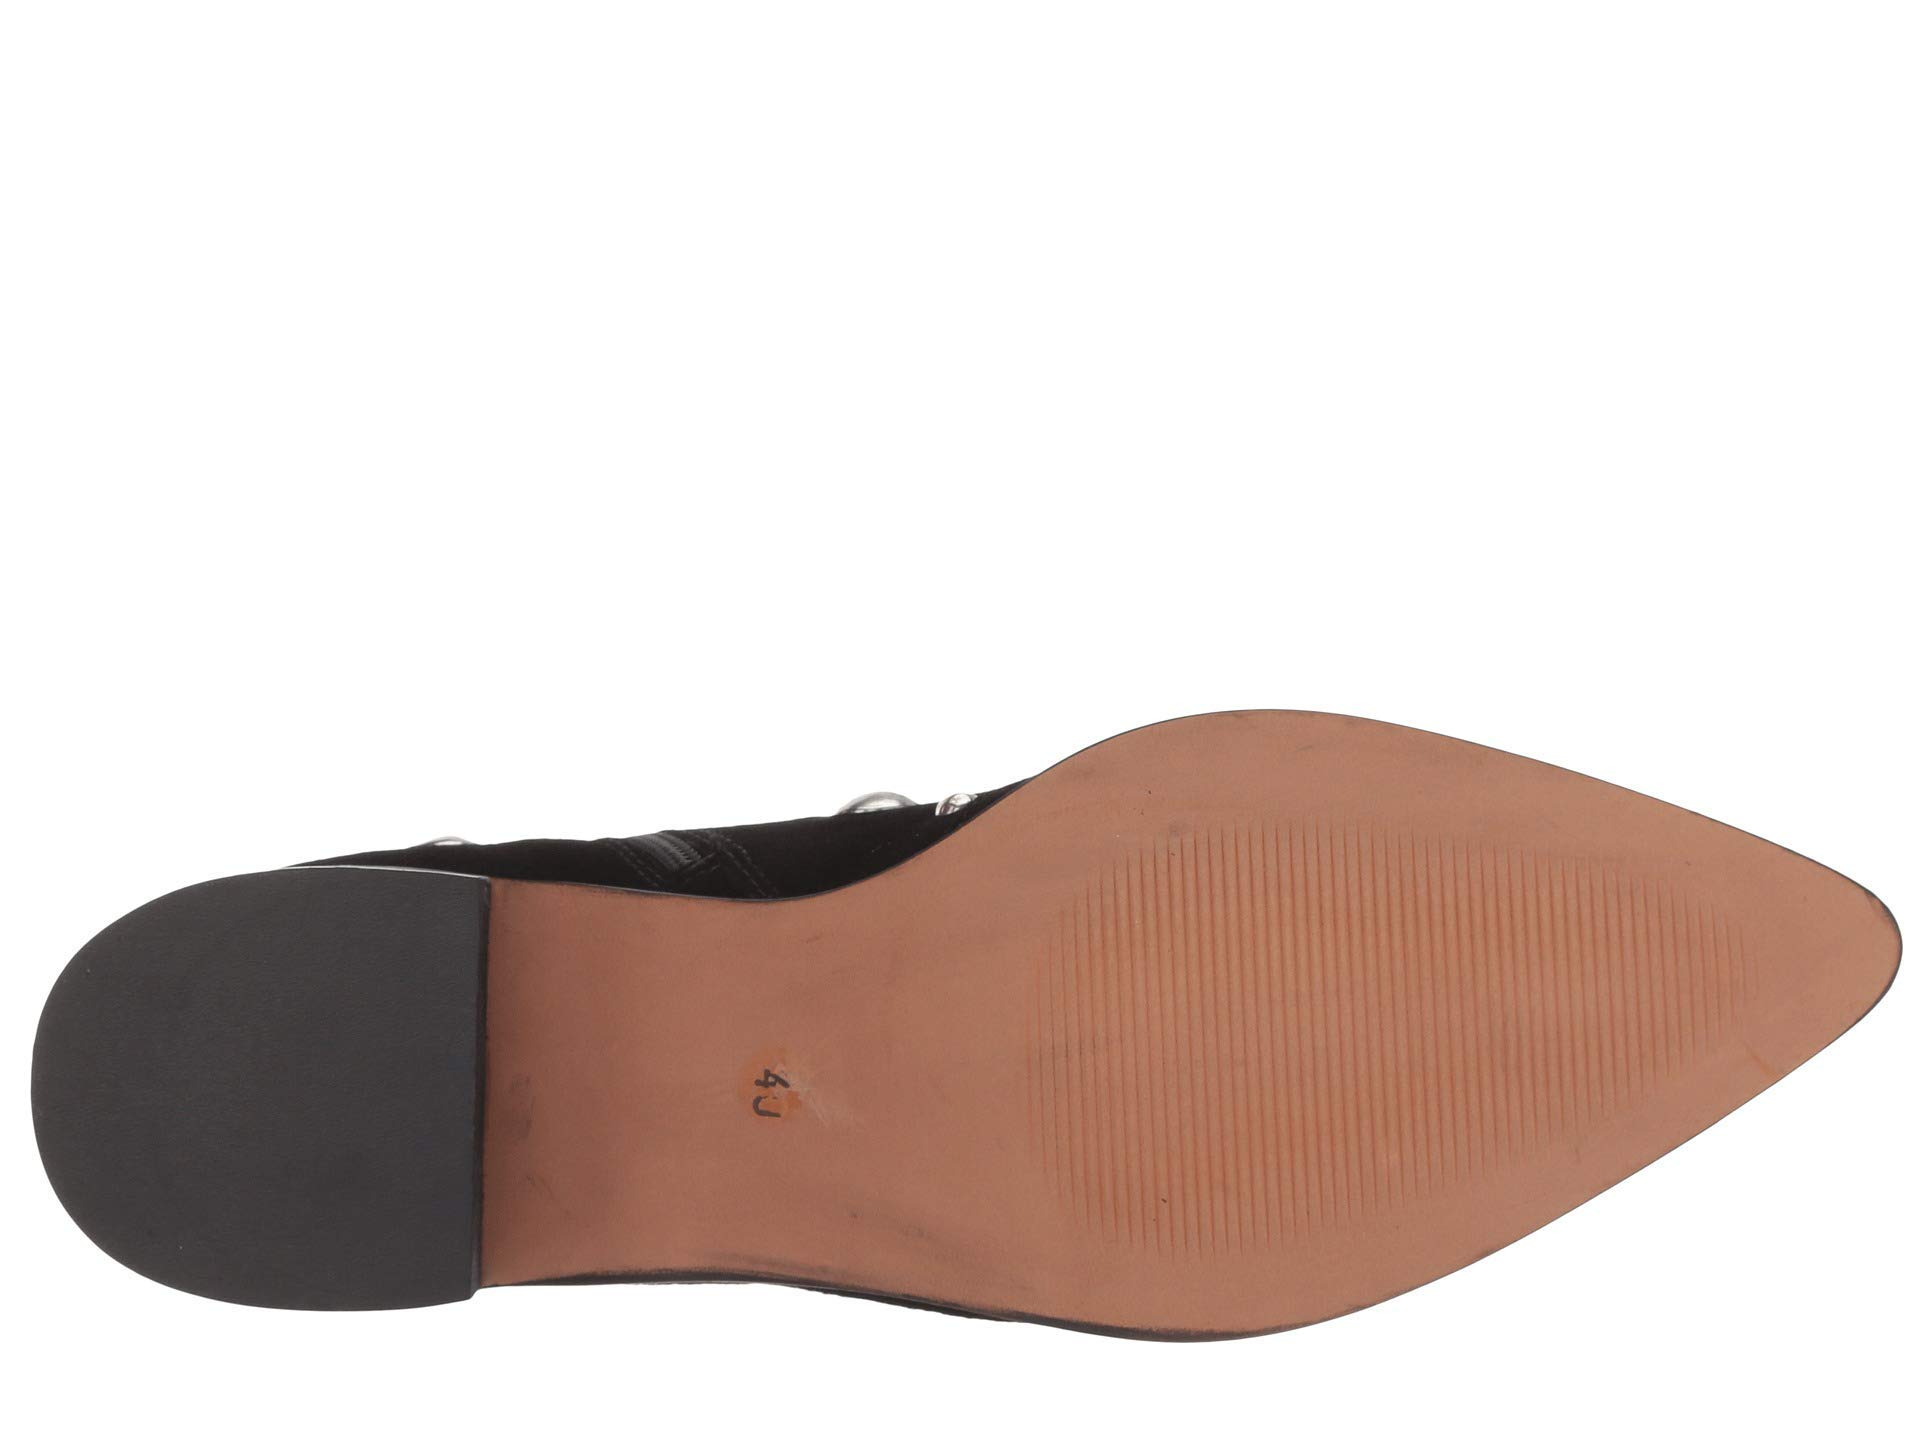line: (1155, 839, 1512, 1160), (1562, 874, 1723, 1019)
